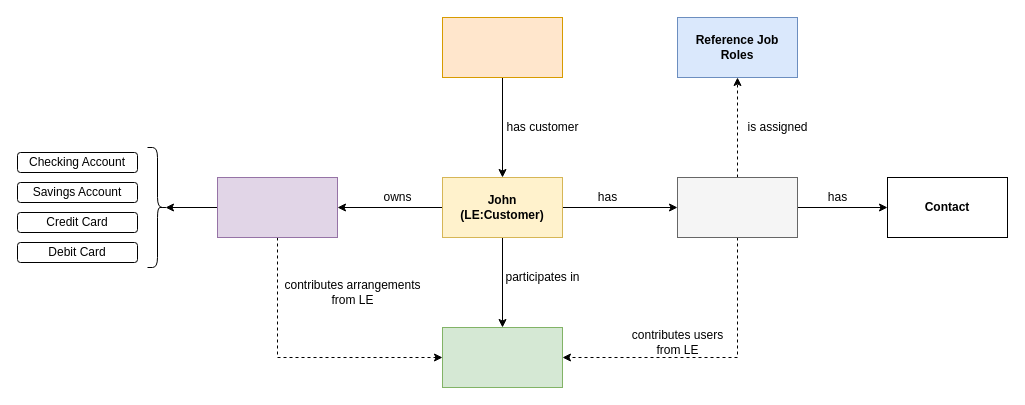
The diagram is 1025 pixels wide and 405 high, and some of its shapes have lost their labels. Here are the shapes that lost their labels. From the top down, the centre of each, then its label:
[502,47]: ModelBank USA - RETAIL
[277,207]: Arrangements
[737,207]: JOHN (Retail Customer)
[502,357]: John (Master SA)
